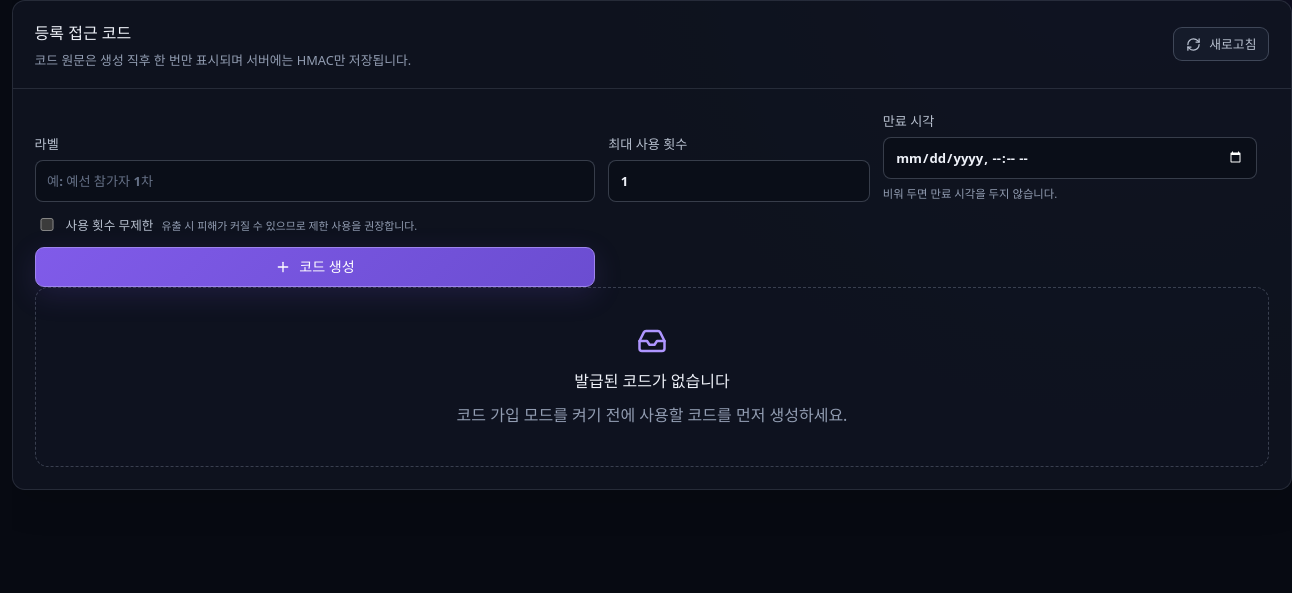
Test case: admin registration-code controls › creates an unlimited code and displays its plaintext only from the create response
Expected: the text "발급된 코드가 없습니다" is shown, top-left (574, 368), bottom-right (730, 392)
Type "  초청 참가자  " into the field labelled "라벨".
click(315, 181); type("  초청 참가자  ")  # box top-left (35, 160), bottom-right (595, 202)
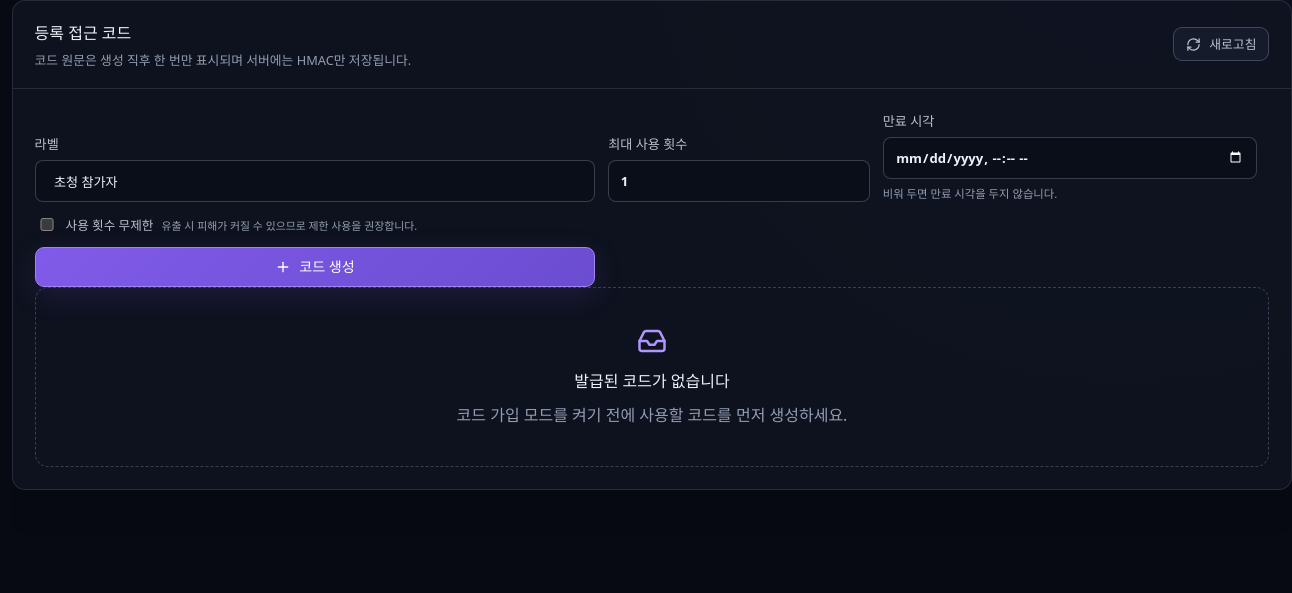
Click the checkbox labelled "사용 횟수 무제한".
click(47, 225)  # box top-left (39, 218), bottom-right (55, 231)
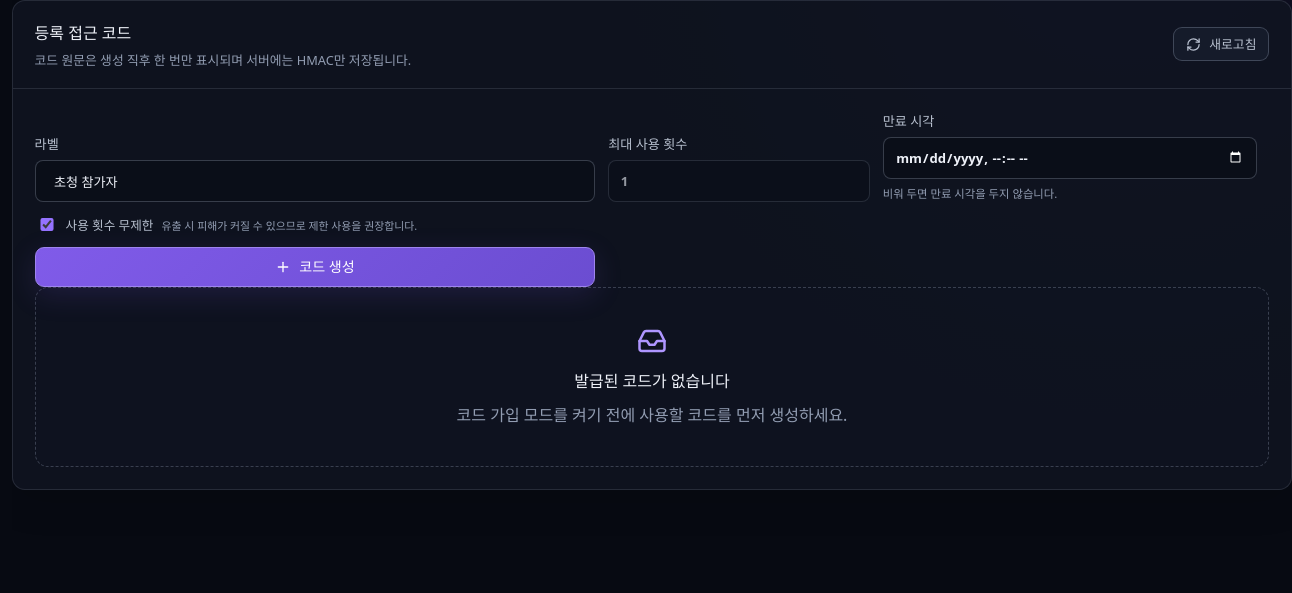
Submit the form named "코드 생성", box top-left (35, 111), bottom-right (1269, 287)
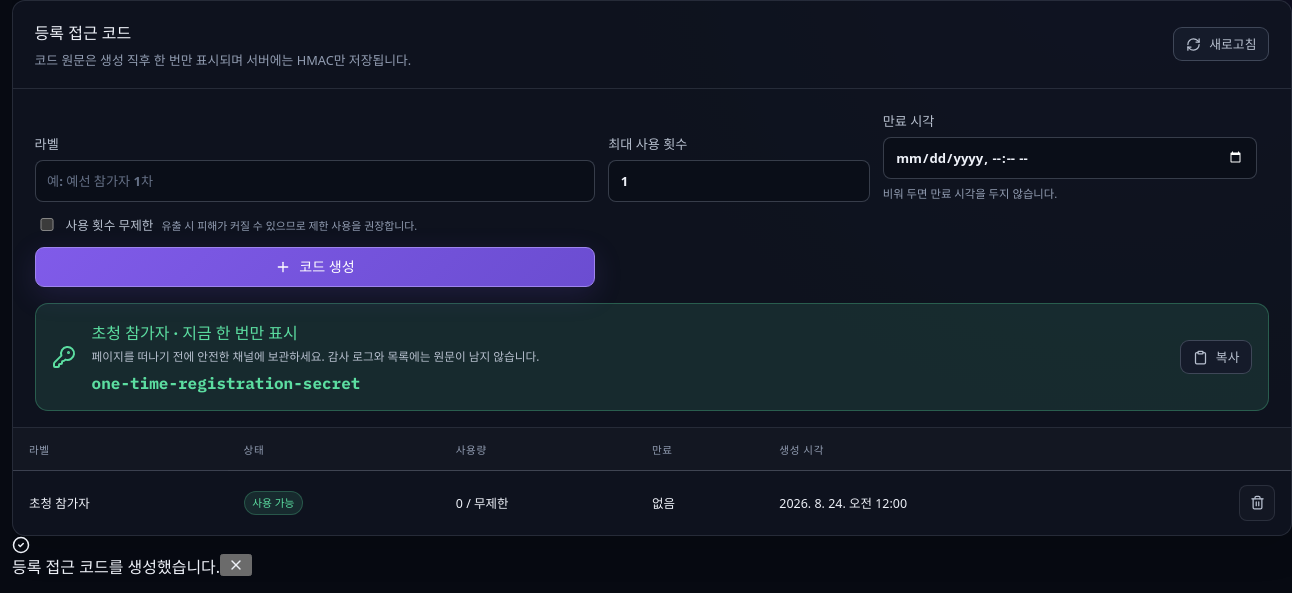
Now the text "one-time-registration-secret" is shown, box top-left (92, 373), bottom-right (360, 393)
Now the text "초청 참가자 · 지금 한 번만 표시" is shown, box top-left (92, 322), bottom-right (298, 344)
Now the text "0 / 무제한" is shown, box top-left (440, 471), bottom-right (636, 535)
